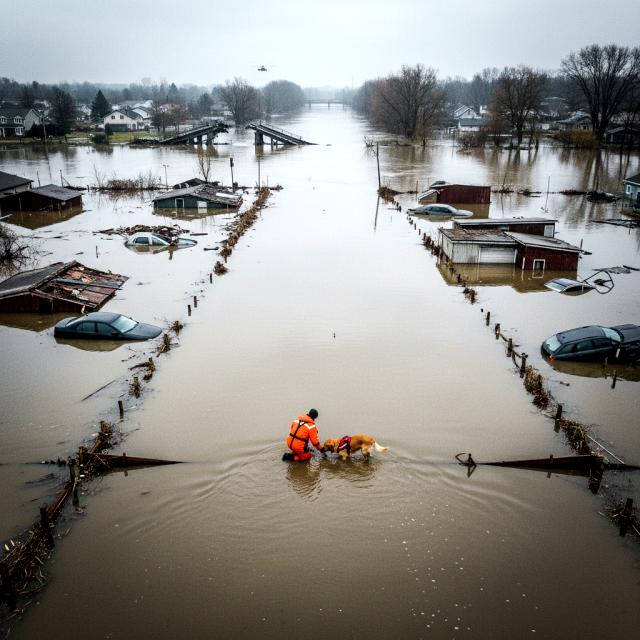dog: (318, 427, 394, 469)
rescuer: (279, 401, 325, 470)
